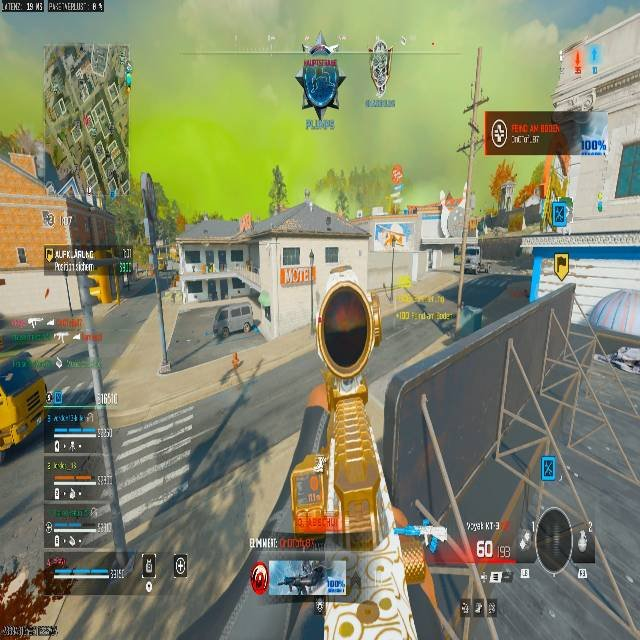player: (294, 43, 346, 122)
